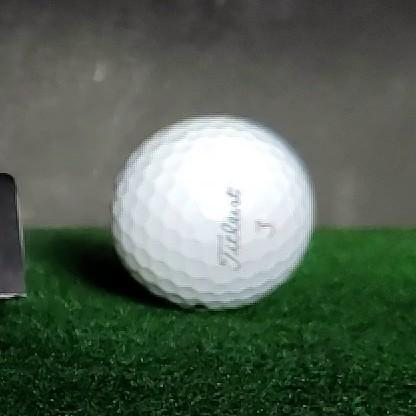golfball: (110, 116, 315, 310)
